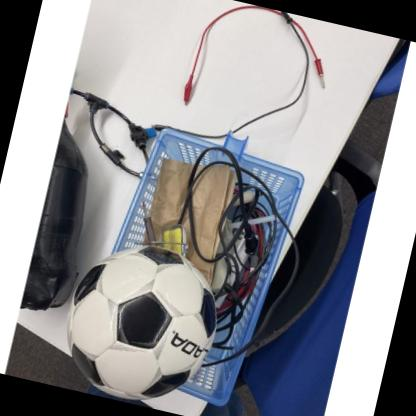ball: (52, 232, 229, 414)
